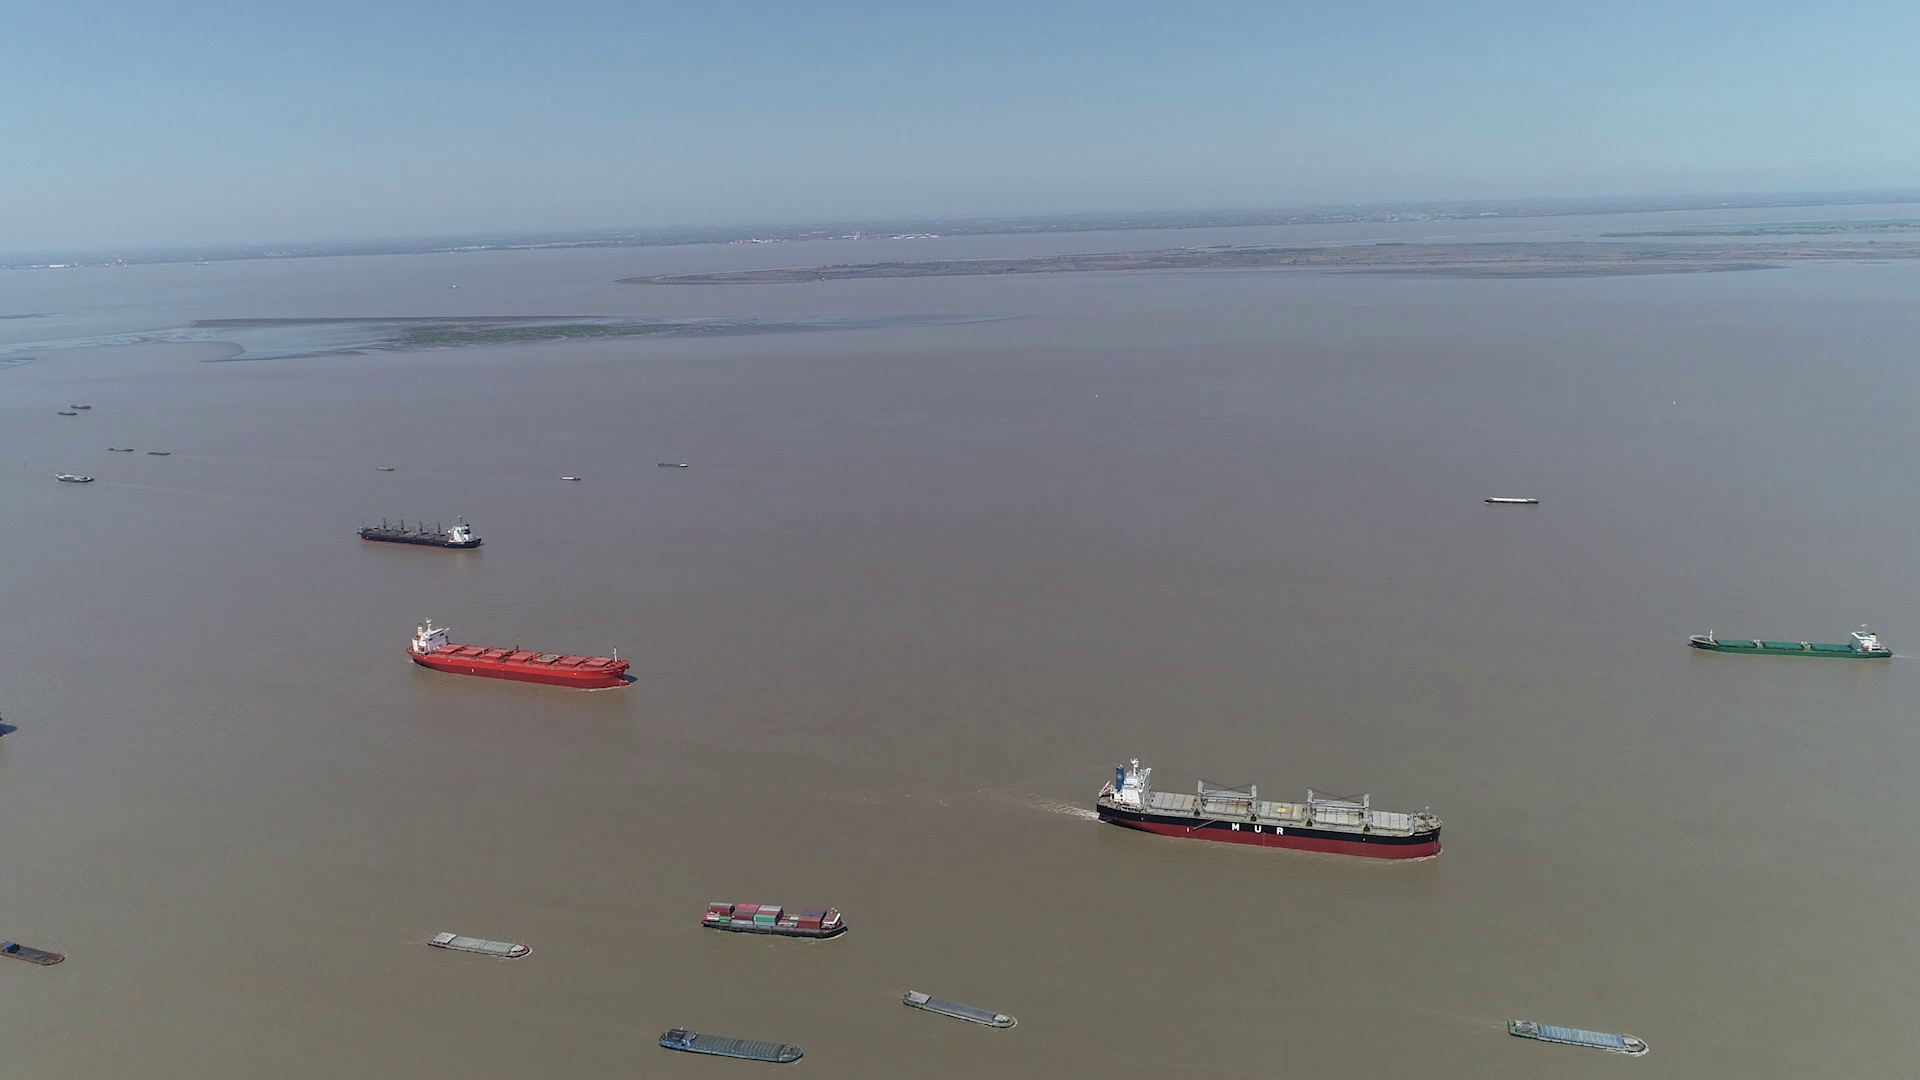ship: (1098, 760, 1443, 857), (407, 620, 629, 688), (1693, 626, 1892, 658), (702, 903, 847, 940), (659, 1029, 804, 1065), (1509, 1019, 1647, 1055), (902, 989, 1017, 1031), (357, 516, 484, 549), (430, 930, 531, 957), (0, 934, 65, 967), (1486, 496, 1542, 506), (55, 472, 94, 483)
